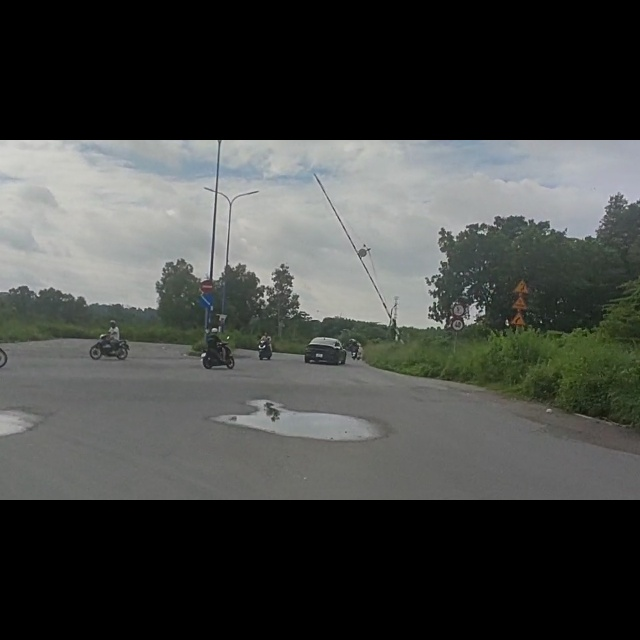bien_cam: (512, 245, 531, 275), (511, 275, 529, 303), (510, 302, 527, 331), (201, 247, 217, 274), (199, 274, 215, 299), (453, 316, 464, 338)
